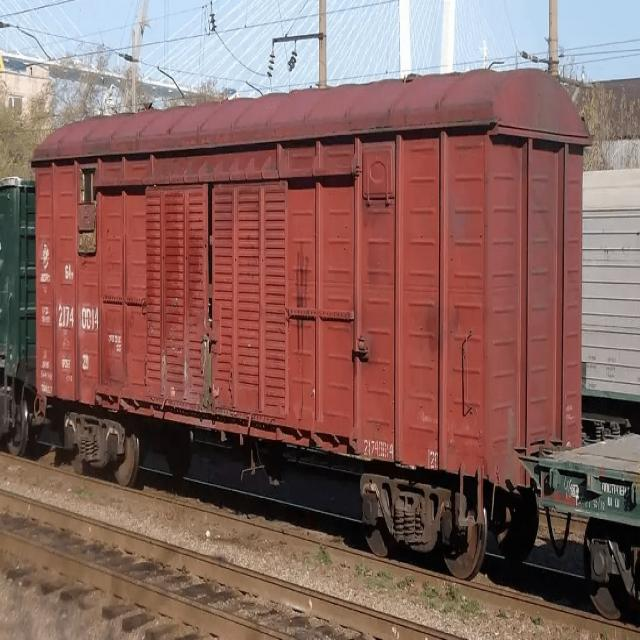boxcar: (24, 48, 593, 603)
flatcar: (535, 355, 640, 630)
